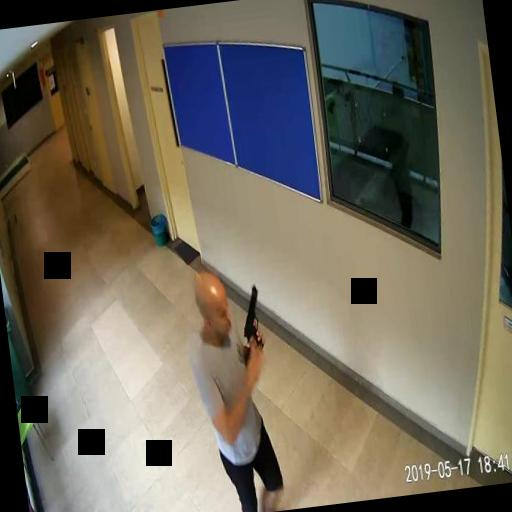Handgun: (236, 282, 264, 351)
